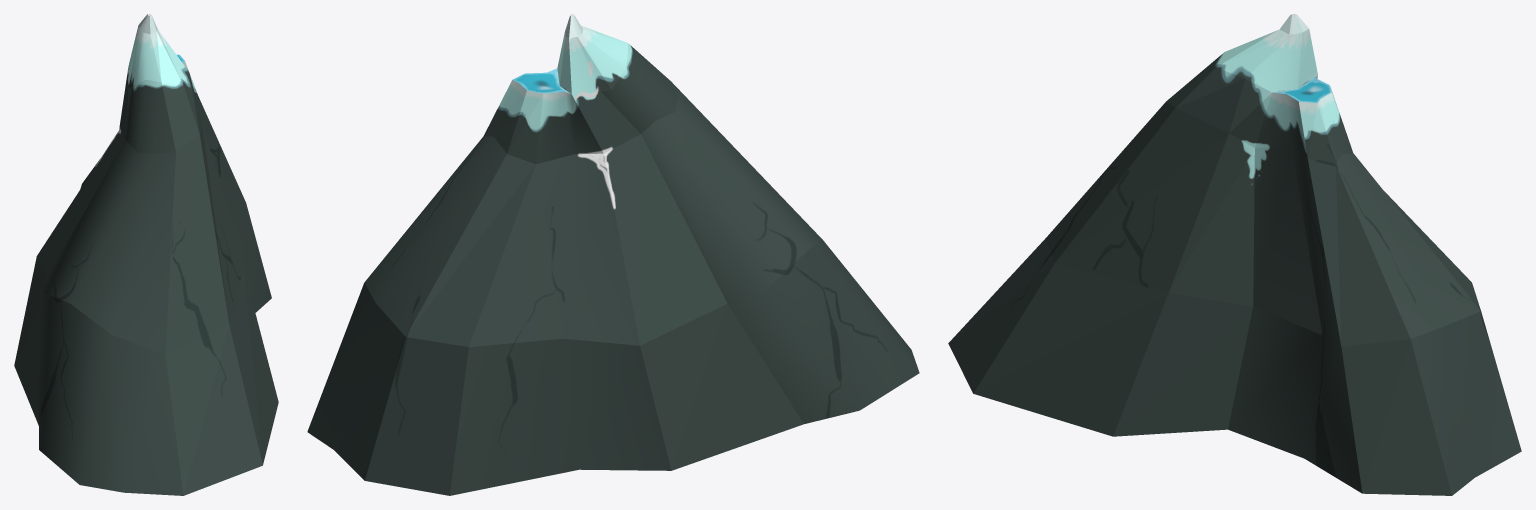
File: Montaña.fbx
3 views of the same model, side by side, from view 1: azimuth 30°, elevation 25°; view 2: azimuth 150°, elevation 25°; view 3: azimuth 270°, elevation 25° (orthographic). The views are drawn at different scales.
Parts seen in each view (by area): view 1: Montaña; view 2: Montaña; view 3: Montaña.
Boxes of the visible parts, x1=… form: Montaña: x1=14, y1=14, x2=278, y2=495; Montaña: x1=307, y1=14, x2=919, y2=495; Montaña: x1=948, y1=14, x2=1521, y2=495.
Size of the model in its own units: 543 by 524 by 691.
